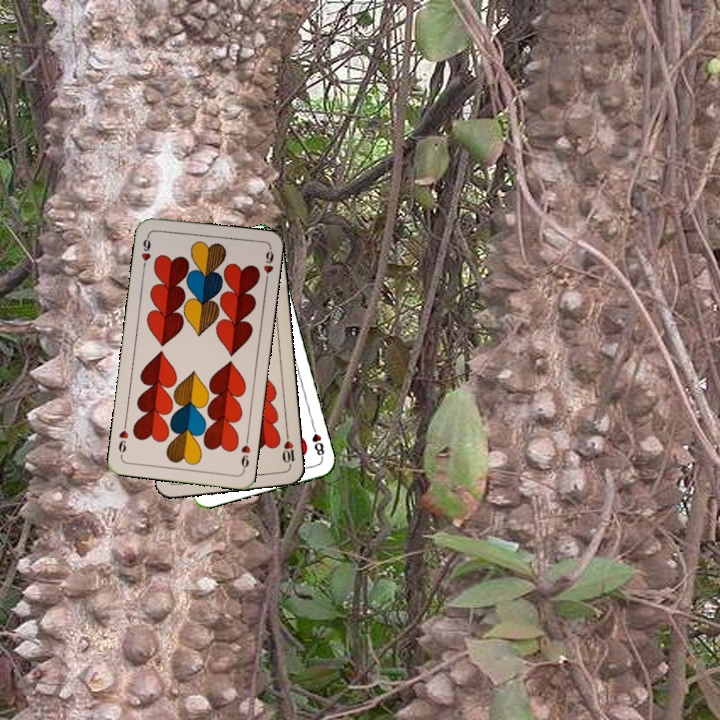H10: (278, 430, 298, 470)
H8: (308, 421, 327, 461)
H9: (237, 433, 253, 473), (137, 231, 153, 271)
